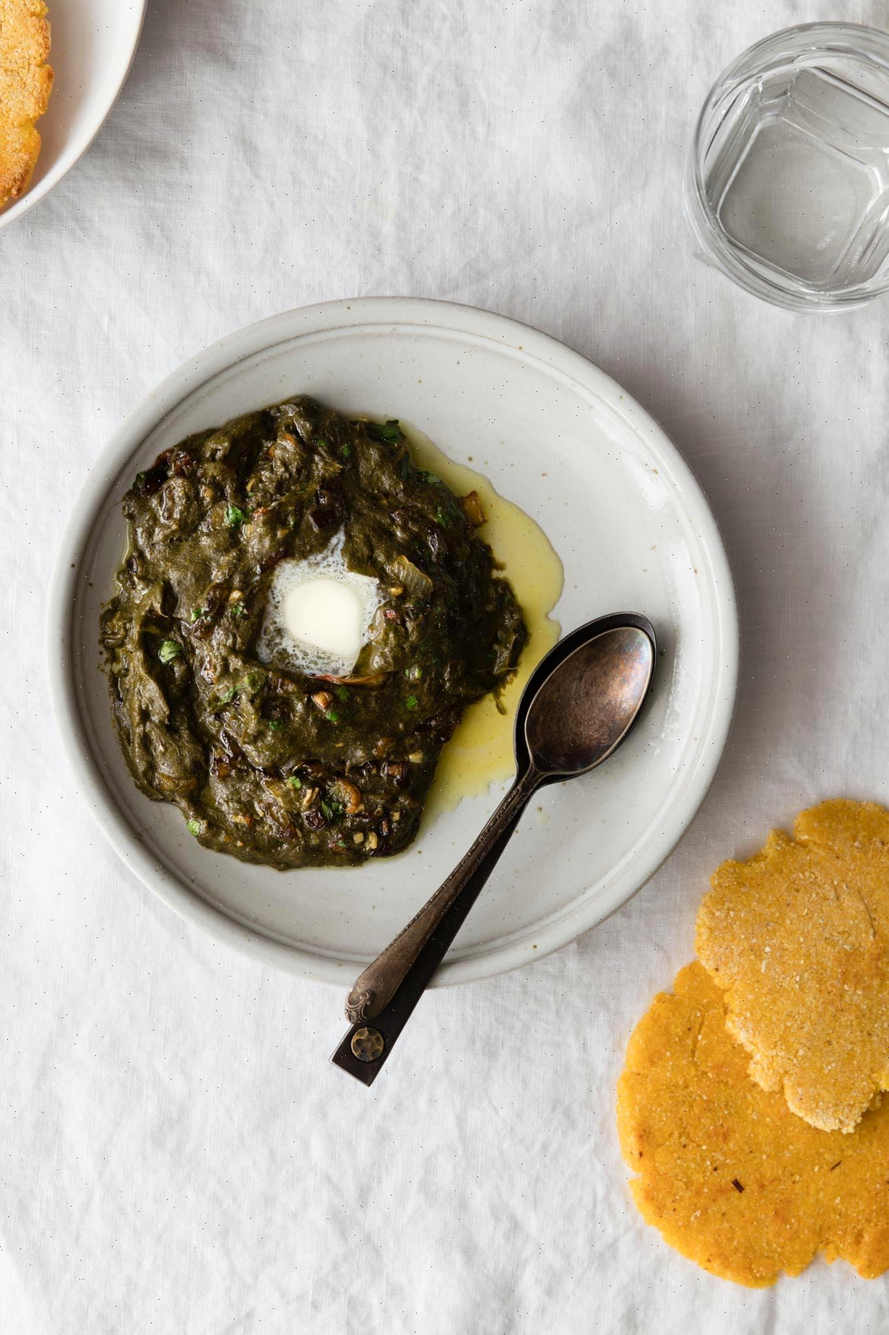saag: (122, 405, 461, 872)
